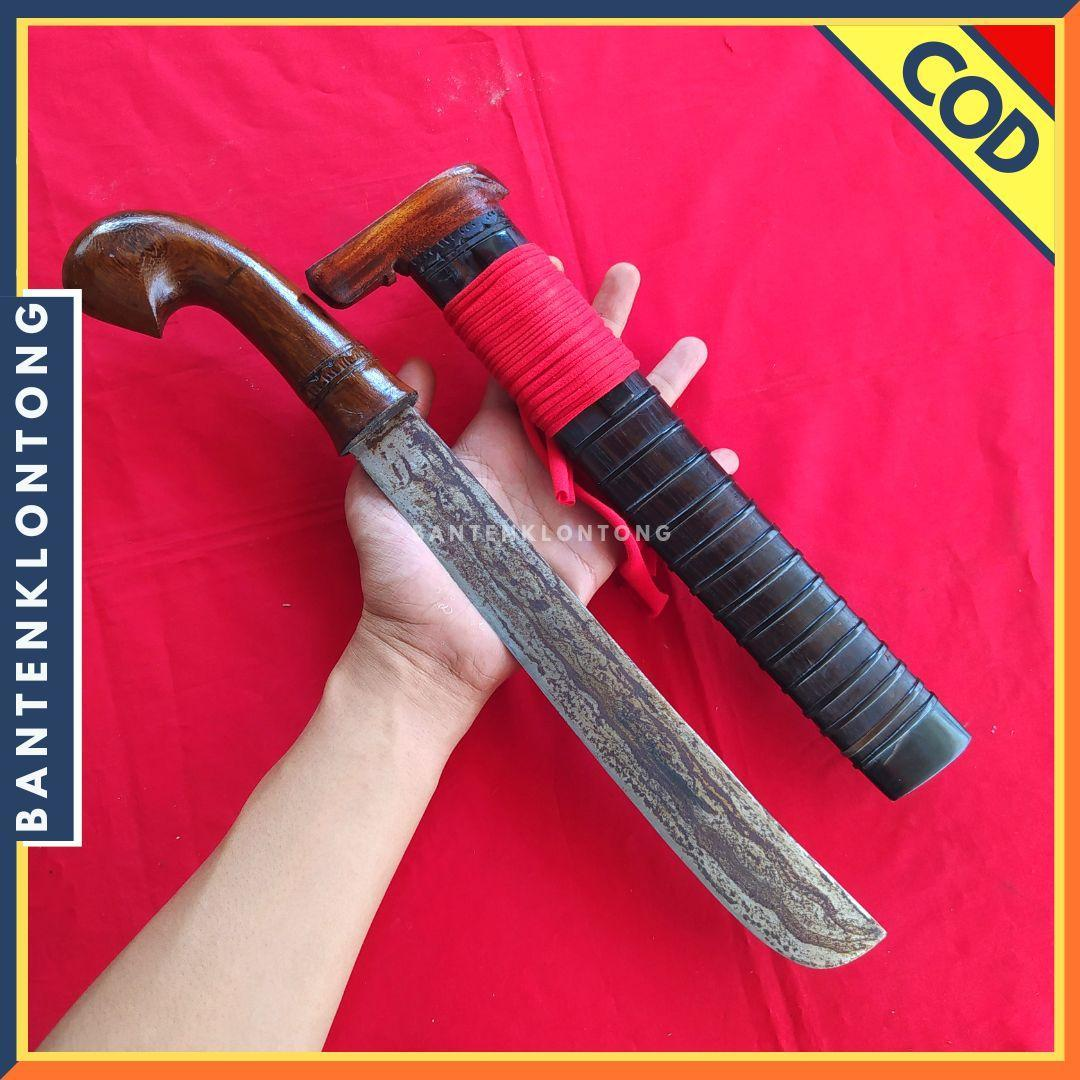facao: (64, 213, 884, 968)
